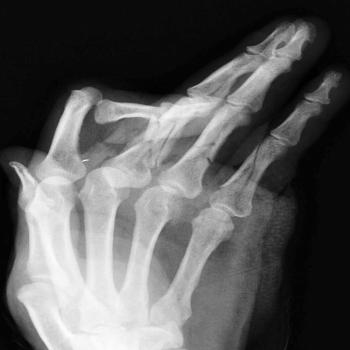Fracture: (239, 140, 268, 218), (83, 79, 117, 135), (144, 120, 179, 164), (187, 136, 217, 170)
